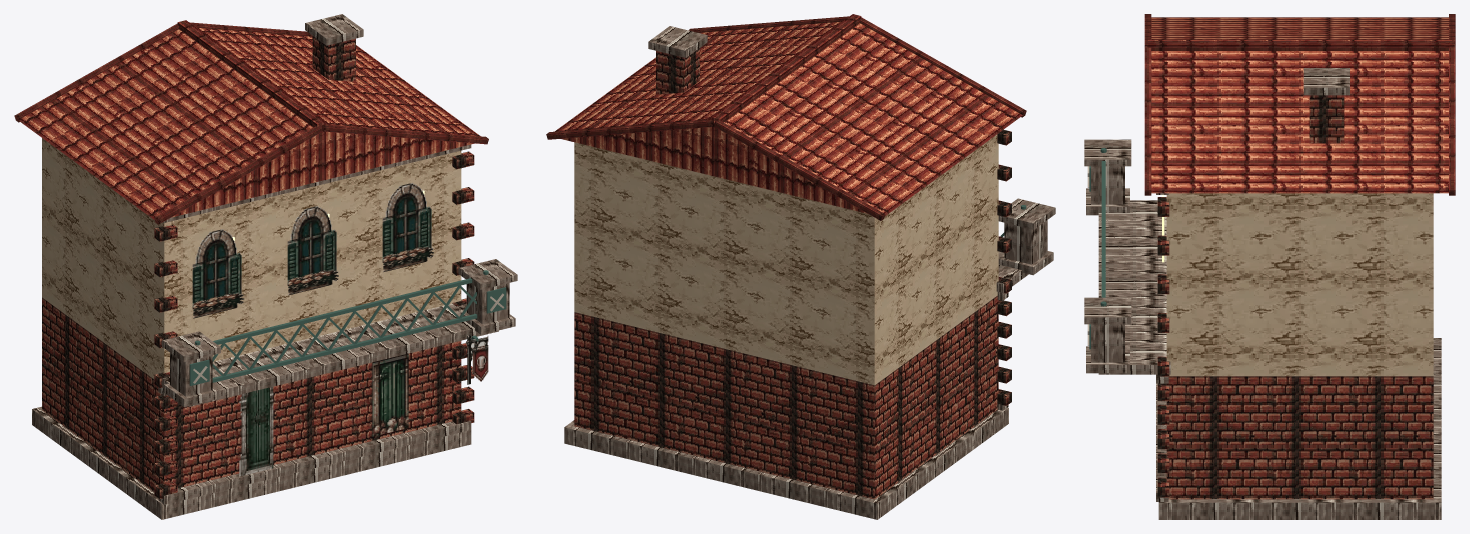
Rendered from palazzo.glb.
3 renders of one model, left to right at view 1: azimuth 30°, elevation 25°; view 2: azimuth 150°, elevation 25°; view 3: azimuth 270°, elevation 25°, orthographic. The views are drawn at different scales.
Parts seen in each view (by area): view 1: palazzo_p9_roof, palazzo_p9_plaster, palazzo_p9_brick, palazzo_p9_stone, palazzo_p9_window_arch, palazzo_p9_iron, palazzo_p9_door_green, palazzo_p9_window_shutter, palazzo_p9_flowerbox, palazzo_p9_sign_banner; view 2: palazzo_p9_plaster, palazzo_p9_roof, palazzo_p9_brick, palazzo_p9_stone; view 3: palazzo_p9_roof, palazzo_p9_plaster, palazzo_p9_brick, palazzo_p9_stone, palazzo_p9_iron.
Part boxes in pixels (left/top/right/bottom): palazzo_p9_roof: left=14, top=20, right=488, bottom=224; palazzo_p9_plaster: left=42, top=138, right=461, bottom=379; palazzo_p9_brick: left=42, top=36, right=474, bottom=498; palazzo_p9_stone: left=32, top=14, right=517, bottom=519; palazzo_p9_window_arch: left=192, top=182, right=431, bottom=308; palazzo_p9_iron: left=189, top=270, right=506, bottom=385; palazzo_p9_door_green: left=239, top=386, right=273, bottom=476; palazzo_p9_window_shutter: left=372, top=353, right=408, bottom=436; palazzo_p9_flowerbox: left=193, top=247, right=433, bottom=318; palazzo_p9_sign_banner: left=465, top=334, right=488, bottom=384; palazzo_p9_plaster: left=574, top=134, right=998, bottom=385; palazzo_p9_roof: left=546, top=14, right=1026, bottom=220; palazzo_p9_brick: left=574, top=48, right=1011, bottom=499; palazzo_p9_stone: left=564, top=26, right=1055, bottom=519; palazzo_p9_roof: left=1144, top=14, right=1455, bottom=195; palazzo_p9_plaster: left=1166, top=193, right=1433, bottom=376; palazzo_p9_brick: left=1157, top=95, right=1433, bottom=499; palazzo_p9_stone: left=1084, top=68, right=1441, bottom=519; palazzo_p9_iron: left=1089, top=148, right=1106, bottom=349.
Bounding box in the file's own units: 7.88 × 8.48 × 6.95.
Materials: 11 (9 with a texture image).
